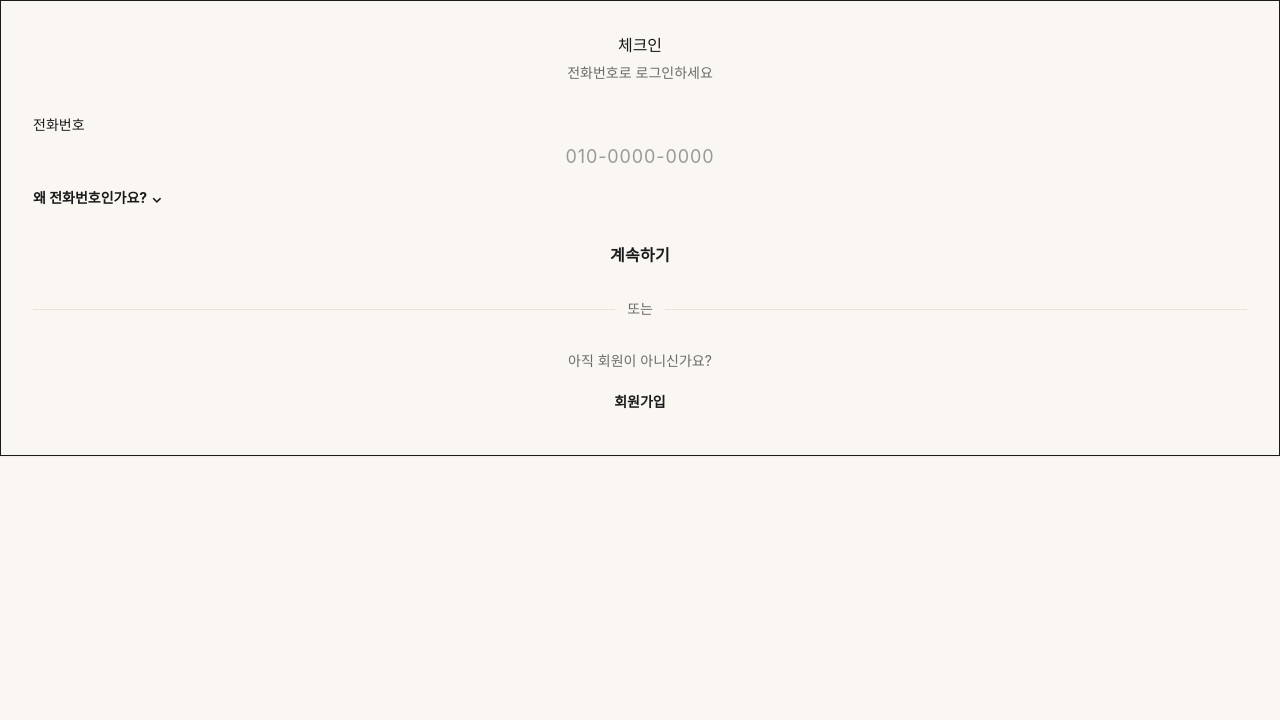
it: 로그인: SUSPENDED 라우팅 정합 › P1-WEB-IDV-01 거절: 미성년 차단은 입력 오류가 아니라 전용 차단 화면으로 보낸다
The image size is (1280, 720).
Step 1. Type "01012345678" into the field with placeholder "010-0000-0000" → (640, 157), box [33,143,1247,171]
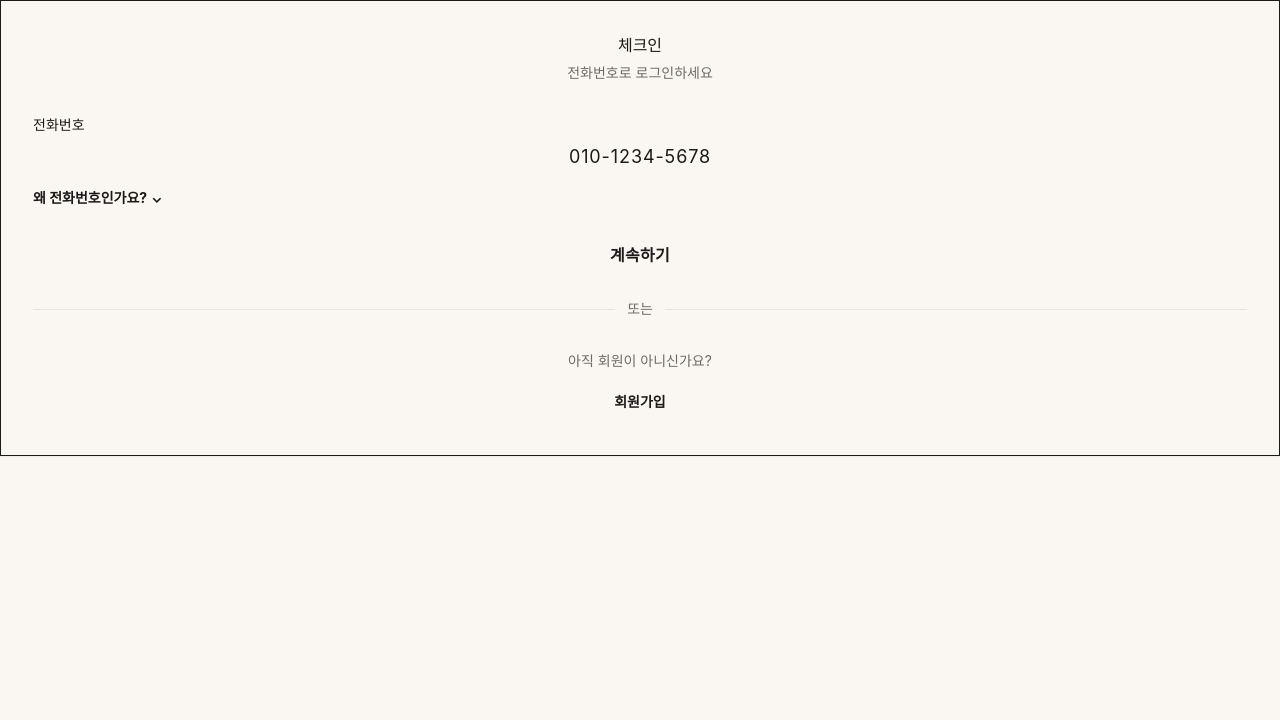
Step 2. Click the button "계속하기" → (640, 255), box [33,243,1247,267]
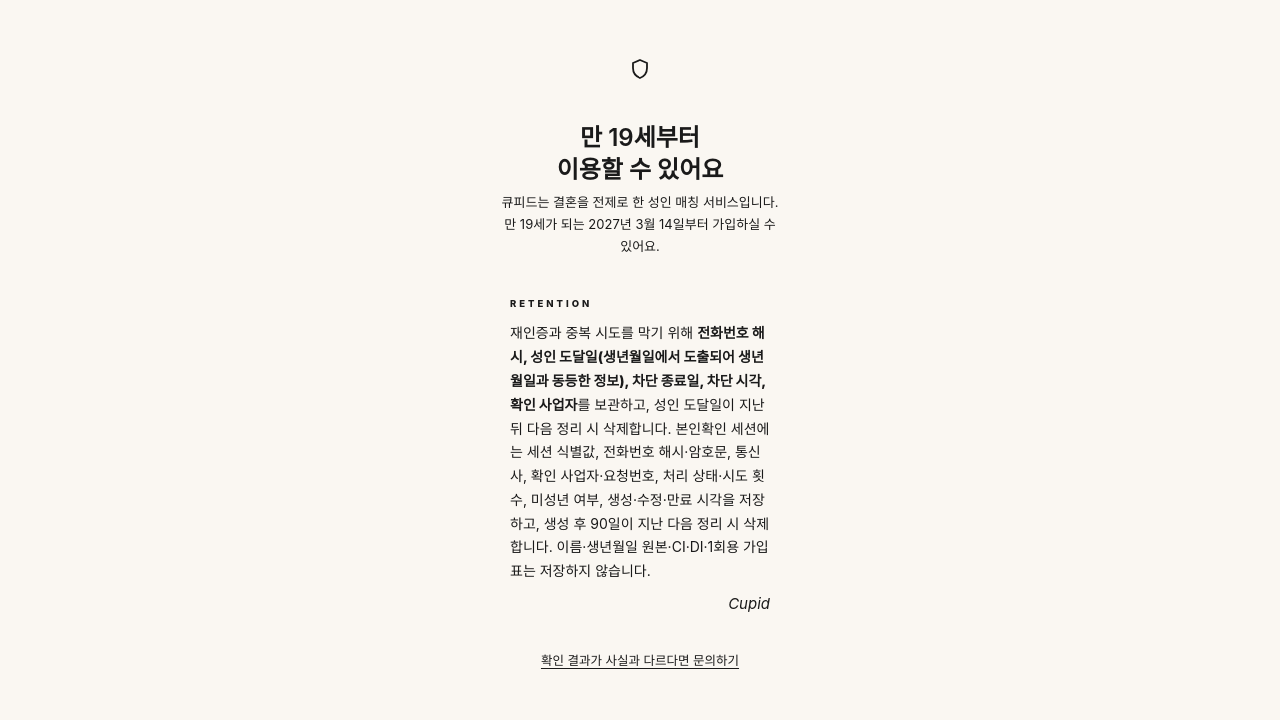
Result: the element with test id "idv-blocked-screen" is shown at [502,57,778,684]
Result: the text "2027년 3월 14일부터" is shown at [504,216,776,254]
Result: the element with test id "idv-blocked-screen" shows "성인 도달일이 지난 뒤 다음 정리 시 삭제합니다" at [510,396,765,436]
